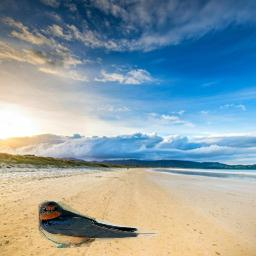Swallow: (36, 199, 159, 248)
